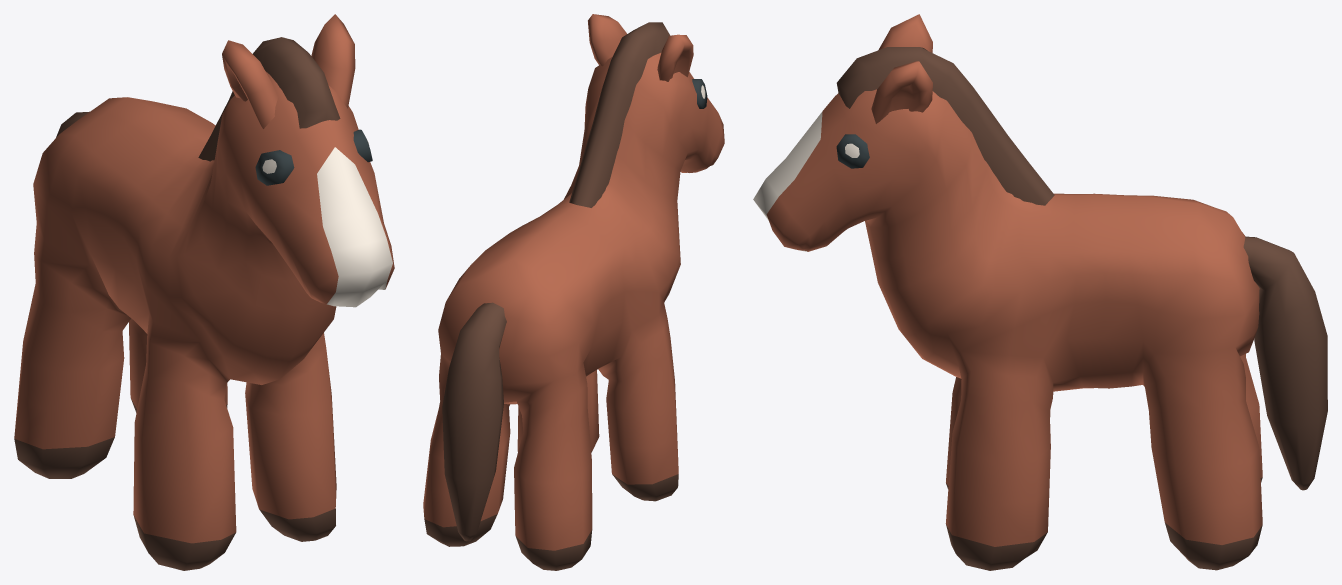
Rendered from Horse_01.fbx.
3 views of the same model, side by side, from view 1: azimuth 30°, elevation 25°; view 2: azimuth 150°, elevation 25°; view 3: azimuth 270°, elevation 25° (orthographic). The views are drawn at different scales.
Visible parts, largest first — view 1: Horse_01; view 2: Horse_01; view 3: Horse_01.
Part boxes in pixels (x1,y1,x2,y2): Horse_01: [14, 14, 394, 570]; Horse_01: [423, 14, 724, 570]; Horse_01: [753, 14, 1327, 570].
Size of the model in its own units: 0.1793 by 0.462 by 0.4854.
